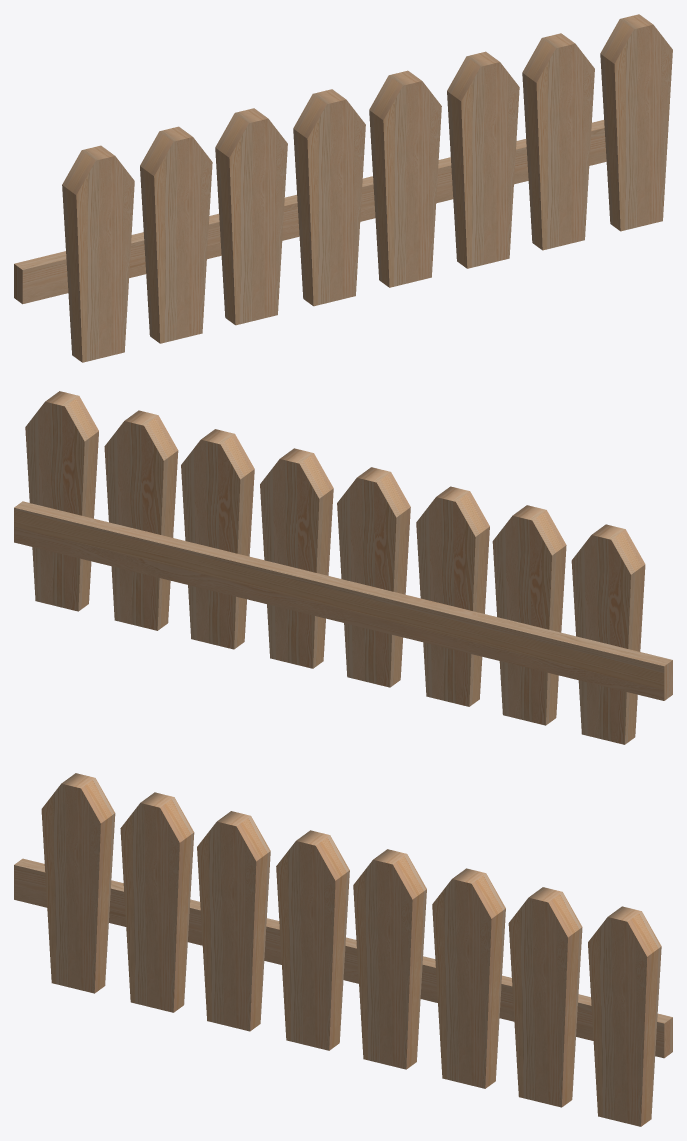
File: fence.fbx
The picture shows the model from 3 angles, top to bottom: view 1: azimuth 30°, elevation 25°; view 2: azimuth 150°, elevation 25°; view 3: azimuth 330°, elevation 25°; orthographic projection.
Parts seen in each view (by area): view 1: pCube14, pCube1, pCube13, pCube15, pCube10, pCube12, pCube16, pCube11, pCube9; view 2: pCube9, pCube1, pCube10, pCube16, pCube15, pCube11, pCube12, pCube13, pCube14; view 3: pCube15, pCube10, pCube12, pCube13, pCube14, pCube16, pCube11, pCube1, pCube9.
Part boxes in pixels (bbox=[...]): pCube14: bbox=[215, 108, 287, 325]; pCube1: bbox=[600, 14, 672, 231]; pCube13: bbox=[293, 89, 365, 306]; pCube15: bbox=[140, 126, 212, 343]; pCube10: bbox=[522, 33, 594, 250]; pCube12: bbox=[447, 51, 519, 268]; pCube16: bbox=[62, 145, 134, 362]; pCube11: bbox=[369, 70, 441, 287]; pCube9: bbox=[14, 120, 606, 304]; pCube9: bbox=[14, 501, 672, 700]; pCube1: bbox=[25, 391, 98, 611]; pCube10: bbox=[104, 410, 178, 630]; pCube16: bbox=[571, 524, 645, 744]; pCube15: bbox=[492, 505, 566, 725]; pCube11: bbox=[260, 448, 333, 668]; pCube12: bbox=[181, 429, 254, 649]; pCube13: bbox=[337, 467, 410, 687]; pCube14: bbox=[416, 486, 489, 706]; pCube15: bbox=[120, 792, 194, 1012]; pCube10: bbox=[508, 887, 582, 1107]; pCube12: bbox=[432, 868, 505, 1088]; pCube13: bbox=[276, 830, 349, 1050]; pCube14: bbox=[197, 811, 270, 1031]; pCube16: bbox=[41, 773, 115, 993]; pCube11: bbox=[353, 849, 426, 1069]; pCube1: bbox=[588, 906, 661, 1126]; pCube9: bbox=[14, 858, 672, 1058].
Bounding box in the file's own units: 3.99 × 1.19 × 0.2363.
